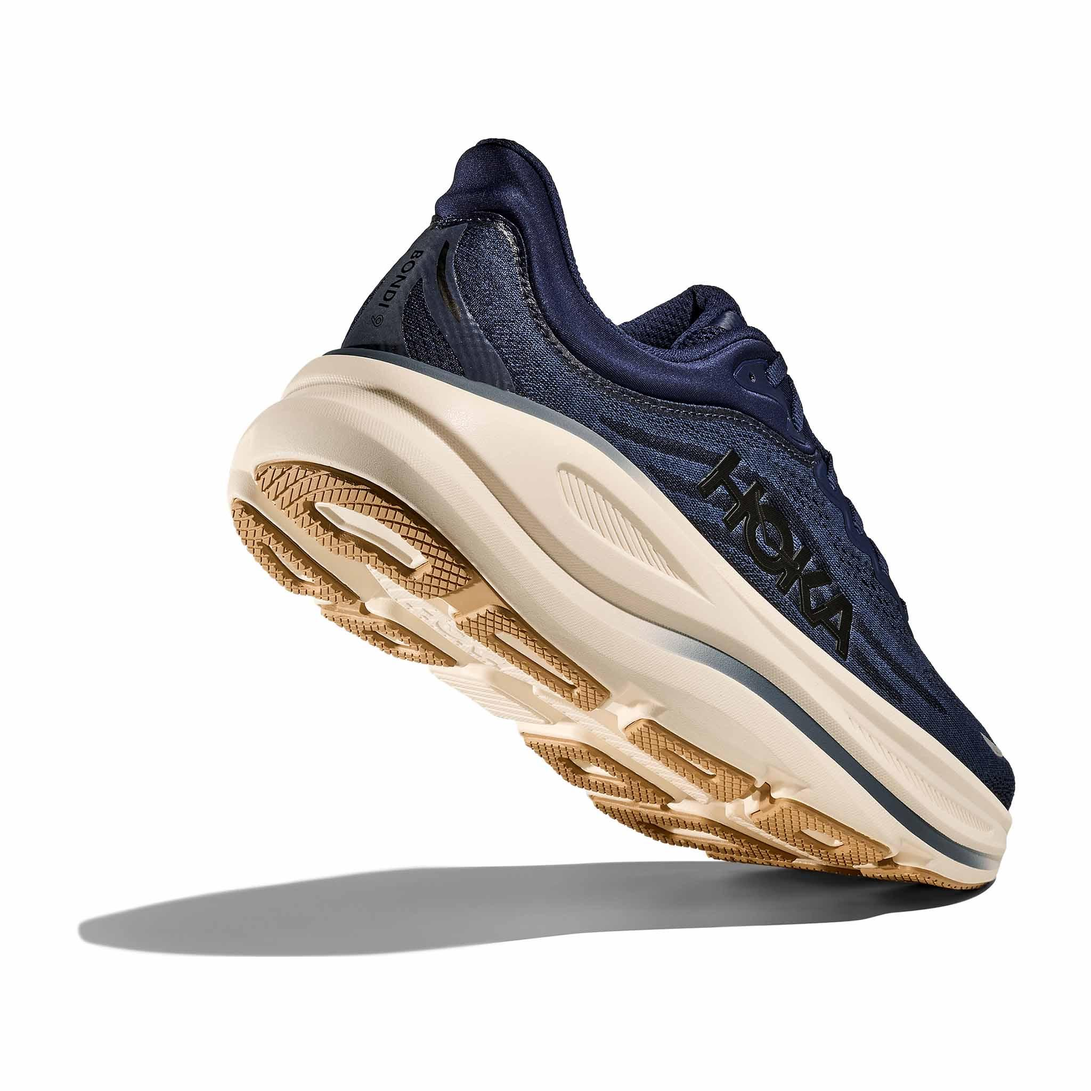hoka logo: (633, 435, 899, 665)
